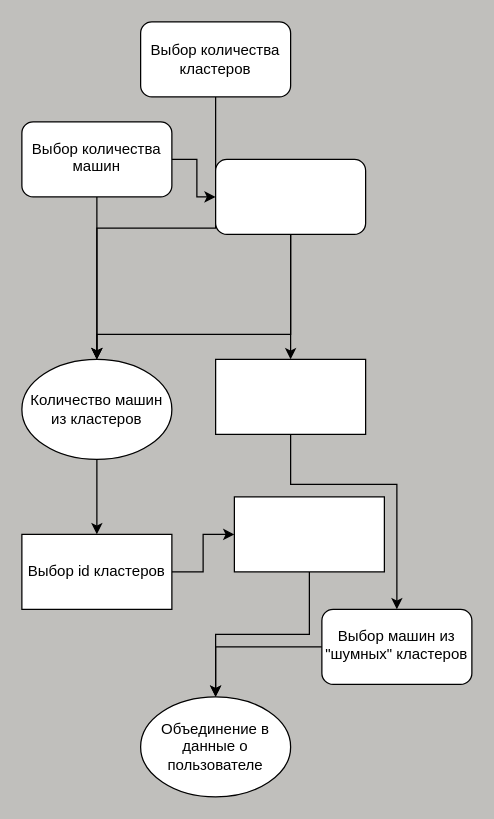
Image size: 494x819. Some labels were removed from this diagram. Here are the shapes that lost their labels. From the top down, the centre of each, then its label:
At (290,196): "Выбор количества шума".
At (290,396): "Выбор кластера для шума".
At (308,534): "Выбор id машин из каждого кластера".
